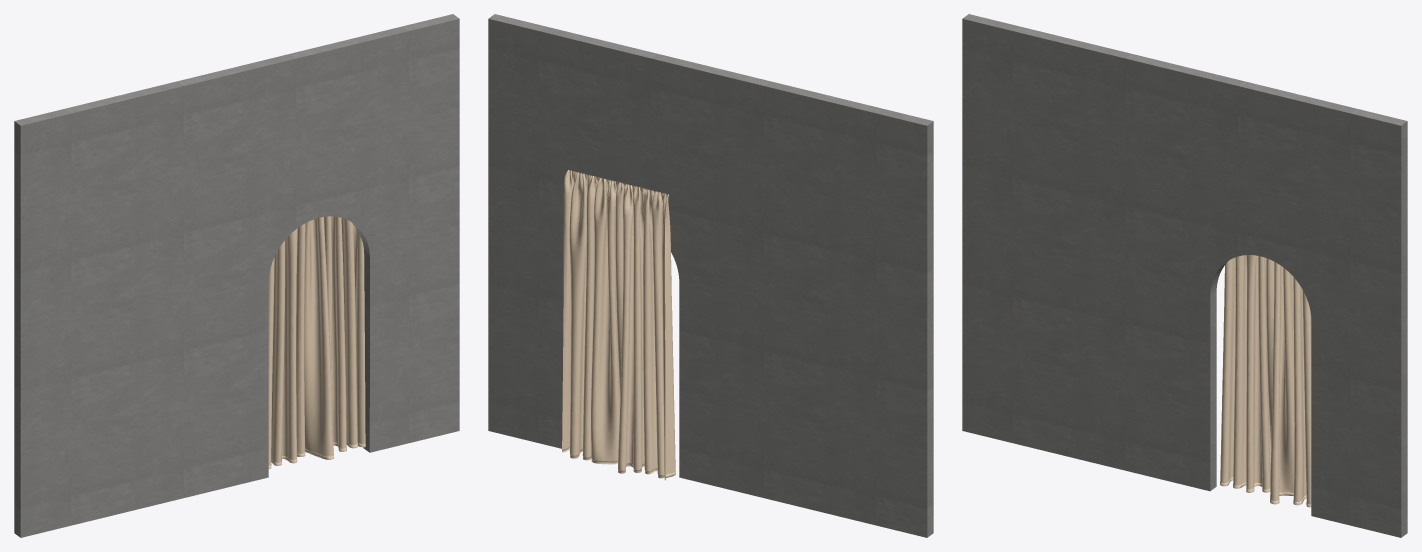
3 renders of one model, left to right at view 1: azimuth 30°, elevation 25°; view 2: azimuth 150°, elevation 25°; view 3: azimuth 330°, elevation 25°, orthographic.
Visible parts, largest first — view 1: Box019, Component82_1; view 2: Box019, Component82_1; view 3: Box019, Component82_1.
Part boxes in pixels (<box>): Box019: <box>14,14,459,537</box>; Component82_1: <box>268,216,365,468</box>; Box019: <box>488,14,933,537</box>; Component82_1: <box>562,170,675,480</box>; Box019: <box>962,14,1407,537</box>; Component82_1: <box>1220,255,1311,507</box>.
Size of the model in its own units: 3900 by 3500 by 313.
